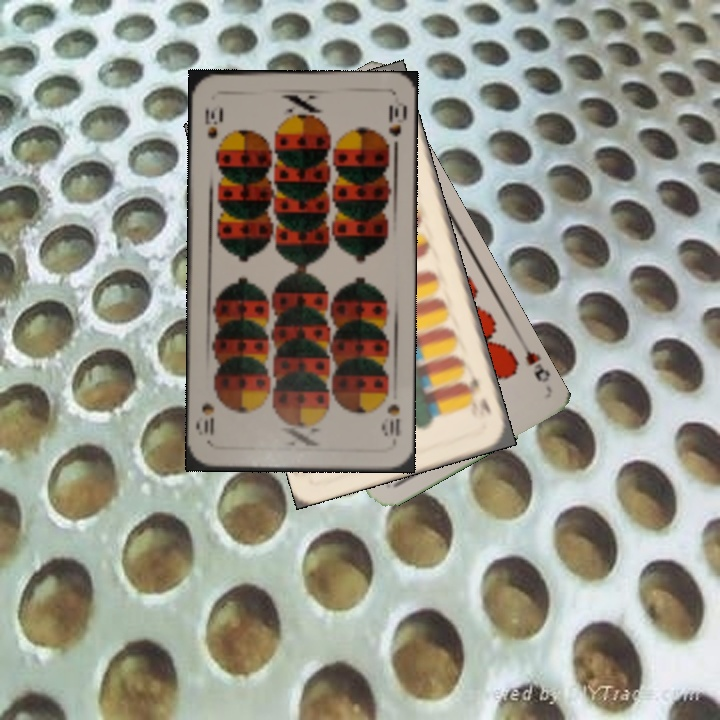E10: (461, 371, 494, 417)
H9: (516, 338, 552, 385)
S10: (379, 399, 402, 439), (200, 103, 222, 141)
